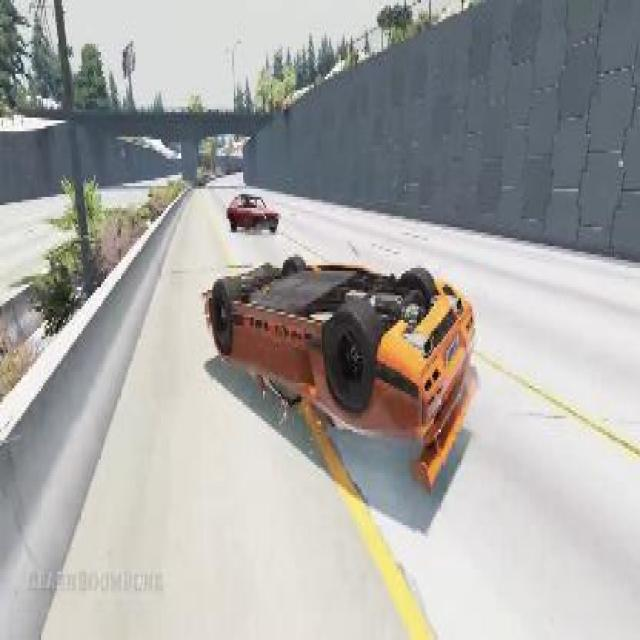accident: (201, 240, 485, 488)
